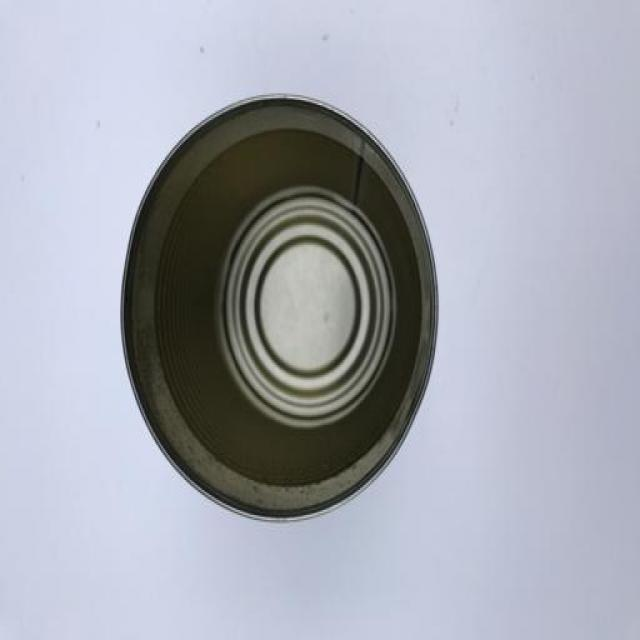metel: (127, 124, 436, 508)
